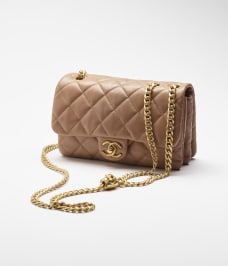channel: (46, 62, 209, 180), (141, 87, 181, 174), (97, 134, 128, 166)
